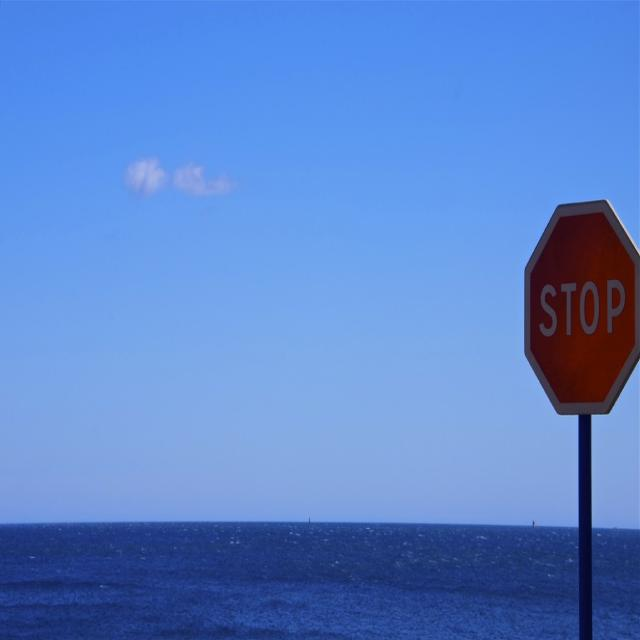Stop-sign: (524, 200, 640, 418)
